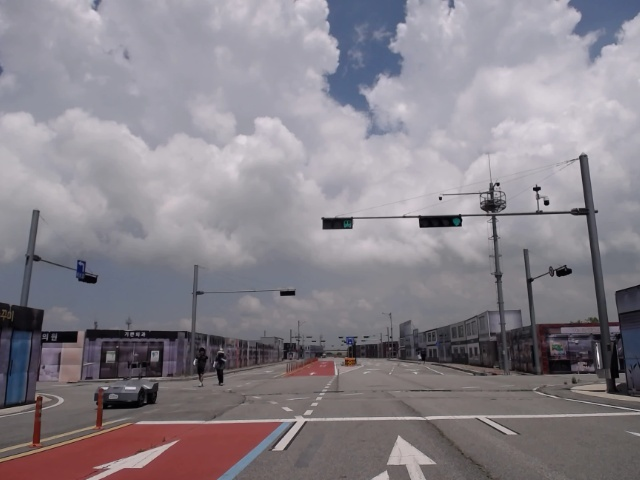straight_green_4: (420, 216, 461, 227)
